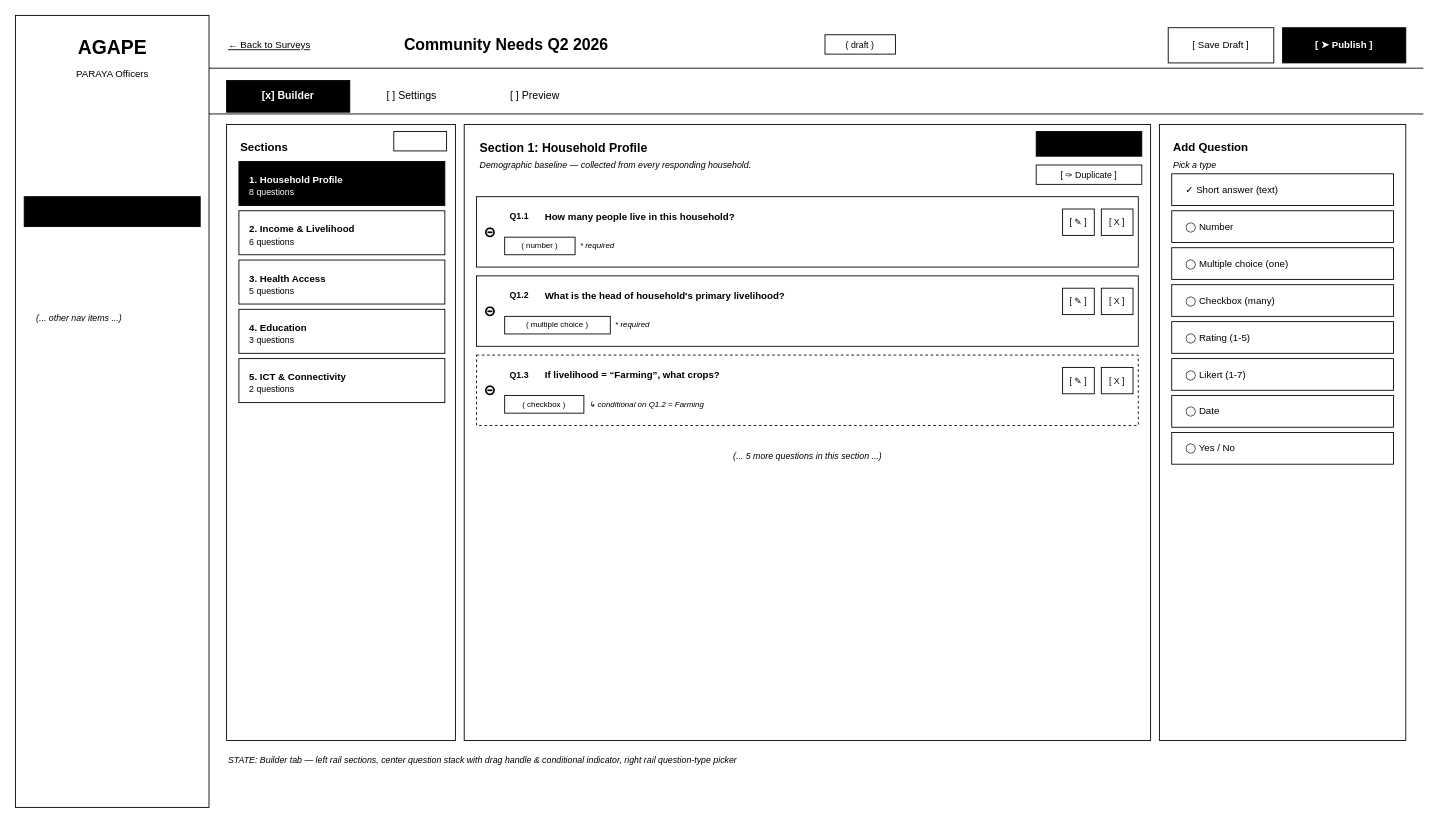
Image size: 1440x823. Some labels were removed from this diagram. The centre of each missing label's shape, as x and y in pixels:
[ + Add ]: point (420, 141)
[ + Add Question ]: point (1088, 143)
[x] Surveys: point (111, 211)
